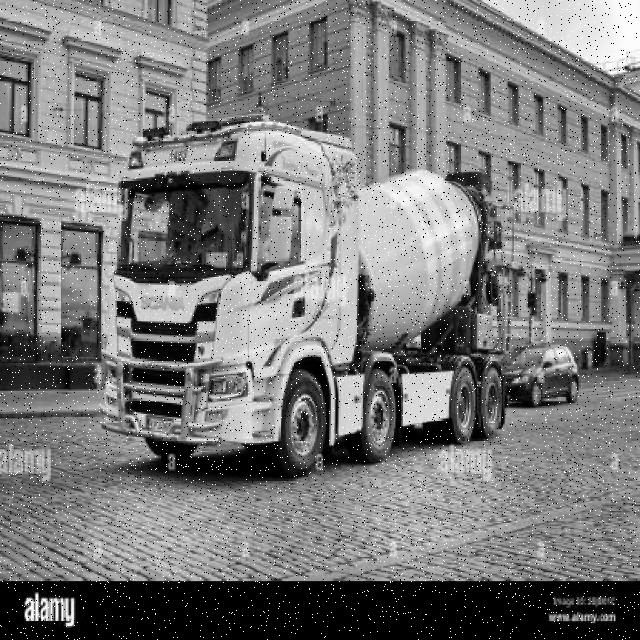Concrete Mixer: (102, 116, 520, 479)
